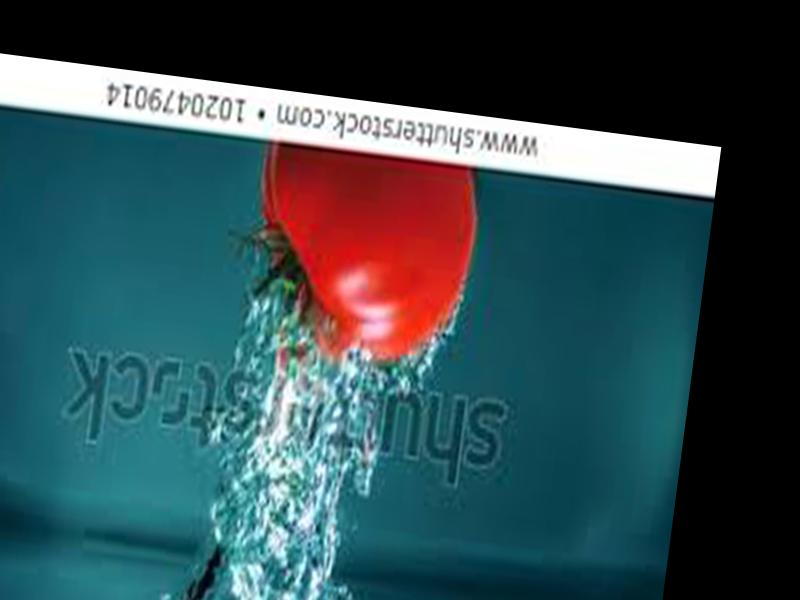Tomato: (239, 139, 482, 371)
